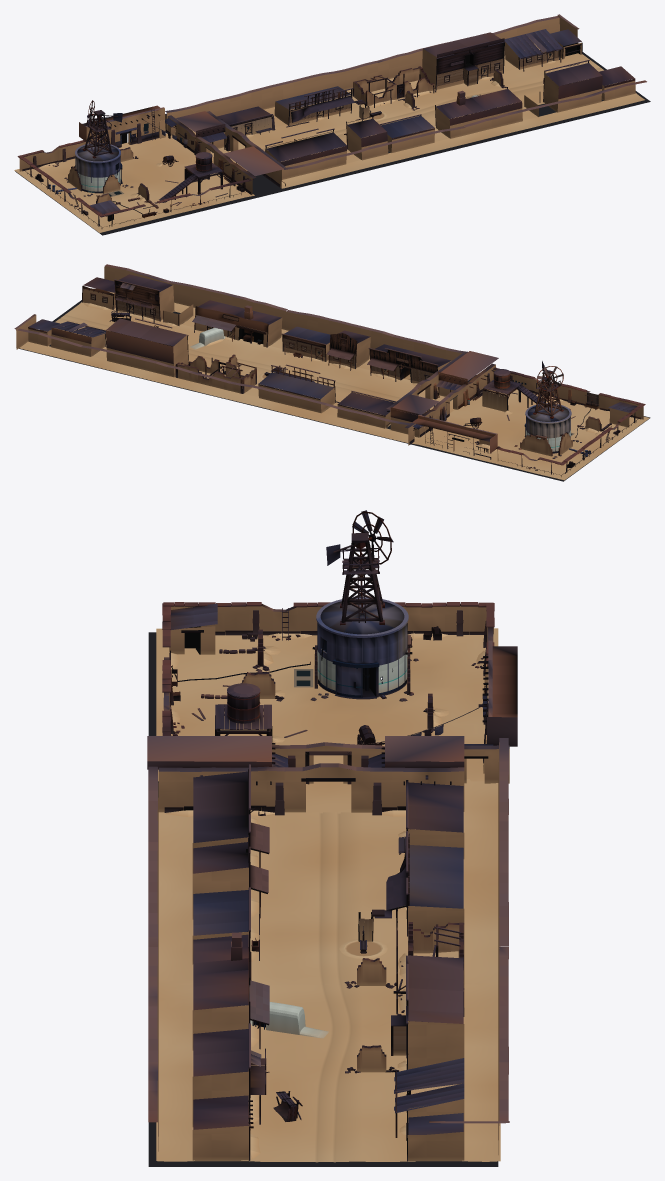
Rendered from env_plenty_street.glb.
The picture shows the model from 3 angles, top to bottom: view 1: azimuth 30°, elevation 25°; view 2: azimuth 150°, elevation 25°; view 3: azimuth 270°, elevation 25°; orthographic projection. The views are drawn at different scales.
Visible parts, largest first — view 1: chunk_st_west__m_frontier, chunk_st_east__m_frontier, chunk_st_yard__m_sand, chunk_st_yard__m_frontier, chunk_st_west__m_sand, chunk_st_east__m_sand, chunk_st_works__m_frontier, chunk_st_works__m_pellam; view 2: chunk_st_west__m_frontier, chunk_st_east__m_frontier, chunk_st_yard__m_sand, chunk_st_west__m_sand, chunk_st_yard__m_frontier, chunk_st_east__m_sand, chunk_st_works__m_frontier, chunk_st_works__m_pellam, chunk_st_east__m_pellam; view 3: chunk_st_west__m_frontier, chunk_st_west__m_sand, chunk_st_east__m_sand, chunk_st_east__m_frontier, chunk_st_yard__m_sand, chunk_st_yard__m_frontier, chunk_st_works__m_pellam, chunk_st_works__m_frontier, chunk_st_east__m_pellam.
Part boxes in pixels (x1,y1,x2,y2): chunk_st_west__m_frontier: (165,61,465,194); chunk_st_east__m_frontier: (376,14,646,137); chunk_st_yard__m_sand: (14,133,254,235); chunk_st_yard__m_frontier: (17,105,251,228); chunk_st_west__m_sand: (171,89,465,198); chunk_st_east__m_sand: (387,43,650,146); chunk_st_works__m_frontier: (82,110,223,202); chunk_st_works__m_pellam: (75,143,123,196); chunk_st_west__m_frontier: (198,310,498,445); chunk_st_east__m_frontier: (14,264,287,385); chunk_st_yard__m_sand: (412,389,650,481); chunk_st_west__m_sand: (200,330,476,444); chunk_st_yard__m_frontier: (409,367,645,476); chunk_st_east__m_sand: (19,291,285,392); chunk_st_works__m_frontier: (482,369,563,418); chunk_st_works__m_pellam: (524,403,574,453); chunk_st_east__m_pellam: (190,327,225,349); chunk_st_west__m_frontier: (147,736,509,984); chunk_st_west__m_sand: (158,779,500,985); chunk_st_east__m_sand: (148,984,500,1166); chunk_st_east__m_frontier: (148,932,509,1161); chunk_st_yard__m_sand: (148,628,498,778); chunk_st_yard__m_frontier: (162,602,517,773); chunk_st_works__m_pellam: (294,597,408,699); chunk_st_works__m_frontier: (215,533,384,741); chunk_st_east__m_pellam: (250,1002,328,1038).
Bounding box in the file's own units: 112 × 16.15 × 32.7.
